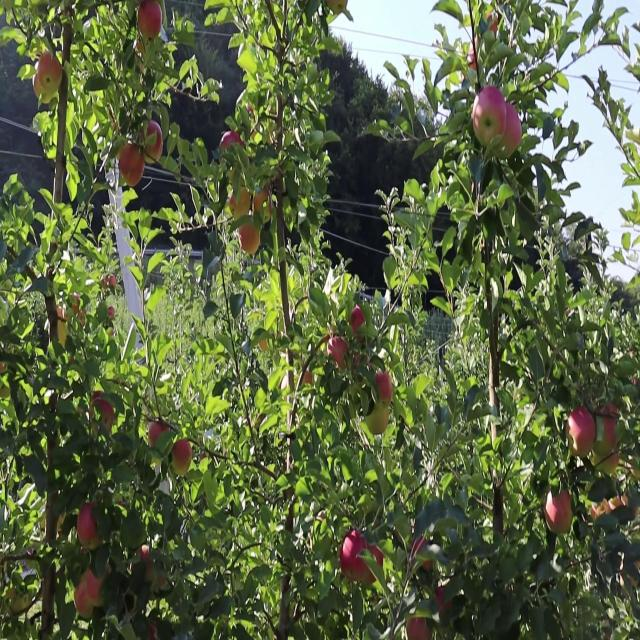apple: (472, 85, 505, 149), (568, 405, 596, 459), (76, 568, 104, 619), (544, 490, 574, 537), (340, 533, 366, 583), (76, 504, 102, 551), (500, 106, 524, 156), (120, 142, 145, 190), (40, 49, 64, 92), (88, 391, 116, 427), (140, 0, 164, 41), (144, 120, 165, 164), (228, 184, 252, 222), (412, 533, 434, 574), (364, 405, 391, 437), (364, 547, 384, 587), (240, 220, 261, 256), (172, 440, 193, 476), (328, 334, 349, 368), (376, 369, 395, 405), (601, 412, 618, 452), (148, 419, 171, 448), (436, 583, 454, 620), (256, 184, 273, 222), (408, 618, 432, 639), (352, 305, 367, 338), (220, 135, 243, 155), (488, 14, 500, 36), (600, 405, 620, 418), (608, 455, 621, 471), (148, 561, 156, 585), (304, 369, 315, 386), (140, 547, 151, 562), (160, 575, 168, 590), (148, 625, 157, 638)
